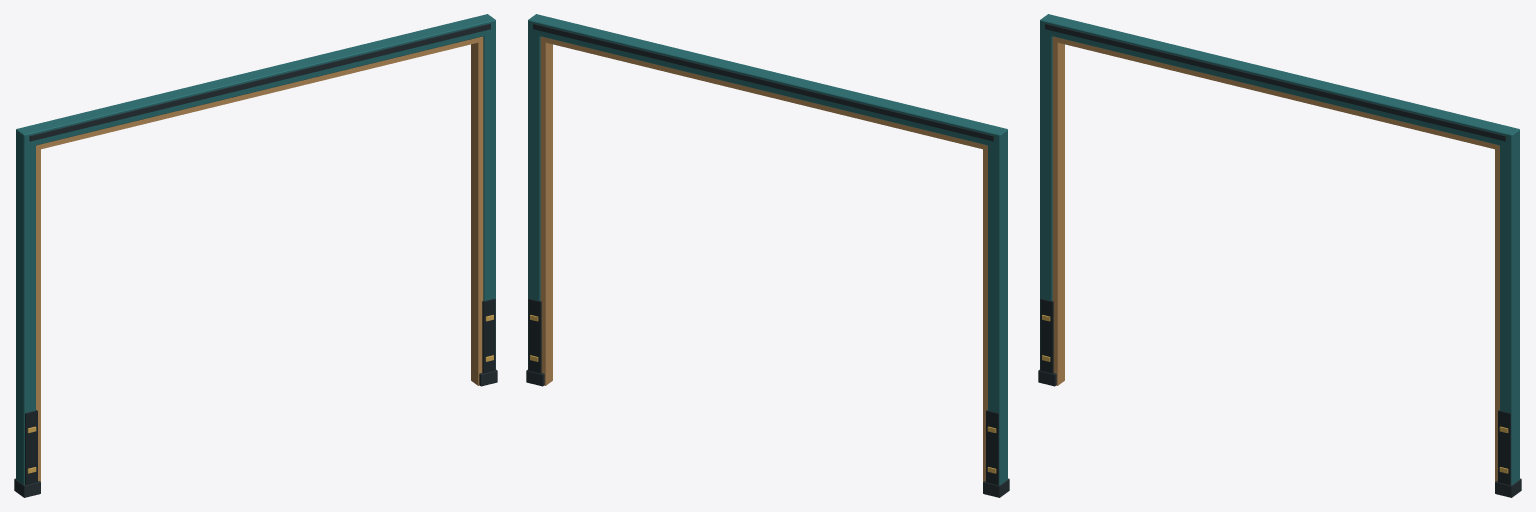
The model's file is large-gate-b2b.glb.
3 renders of one model, left to right at view 1: azimuth 30°, elevation 25°; view 2: azimuth 150°, elevation 25°; view 3: azimuth 330°, elevation 25°, orthographic.
Visible parts, largest first — view 1: large-gate-b2b__batch_04, large-gate-b2b__batch_03, large-gate-b2b__batch_01, large-gate-b2b__batch_00; view 2: large-gate-b2b__batch_04, large-gate-b2b__batch_03, large-gate-b2b__batch_01, large-gate-b2b__batch_00; view 3: large-gate-b2b__batch_04, large-gate-b2b__batch_03, large-gate-b2b__batch_01, large-gate-b2b__batch_00.
Boxes of the visible parts, left/top/right/bottom form: large-gate-b2b__batch_04: left=16, top=14, right=495, bottom=484; large-gate-b2b__batch_03: left=36, top=36, right=483, bottom=481; large-gate-b2b__batch_01: left=14, top=23, right=497, bottom=497; large-gate-b2b__batch_00: left=25, top=298, right=495, bottom=485; large-gate-b2b__batch_04: left=528, top=14, right=1007, bottom=484; large-gate-b2b__batch_03: left=540, top=36, right=987, bottom=481; large-gate-b2b__batch_01: left=526, top=23, right=1009, bottom=497; large-gate-b2b__batch_00: left=528, top=298, right=998, bottom=485; large-gate-b2b__batch_04: left=1040, top=14, right=1519, bottom=484; large-gate-b2b__batch_03: left=1052, top=36, right=1499, bottom=481; large-gate-b2b__batch_01: left=1038, top=23, right=1521, bottom=497; large-gate-b2b__batch_00: left=1040, top=298, right=1510, bottom=485.
Size of the model in its own units: 6.5 by 4.75 by 0.25.
